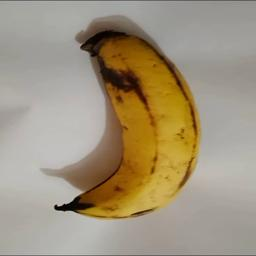Banana Semifresh: (51, 29, 203, 223)
